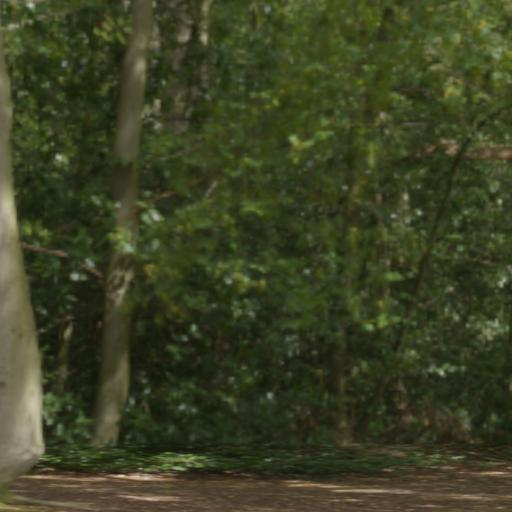nothing: (0, 4, 512, 507)
